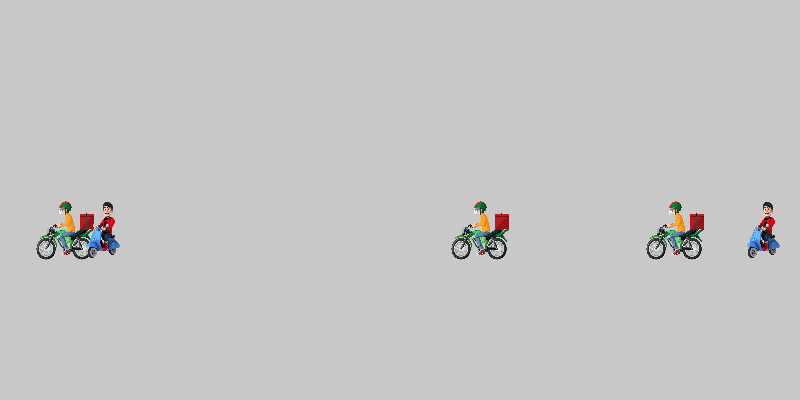helmet: (35, 200, 95, 260), (450, 200, 510, 260), (645, 200, 705, 260)
no_helmet: (75, 200, 135, 260), (735, 200, 795, 260)
